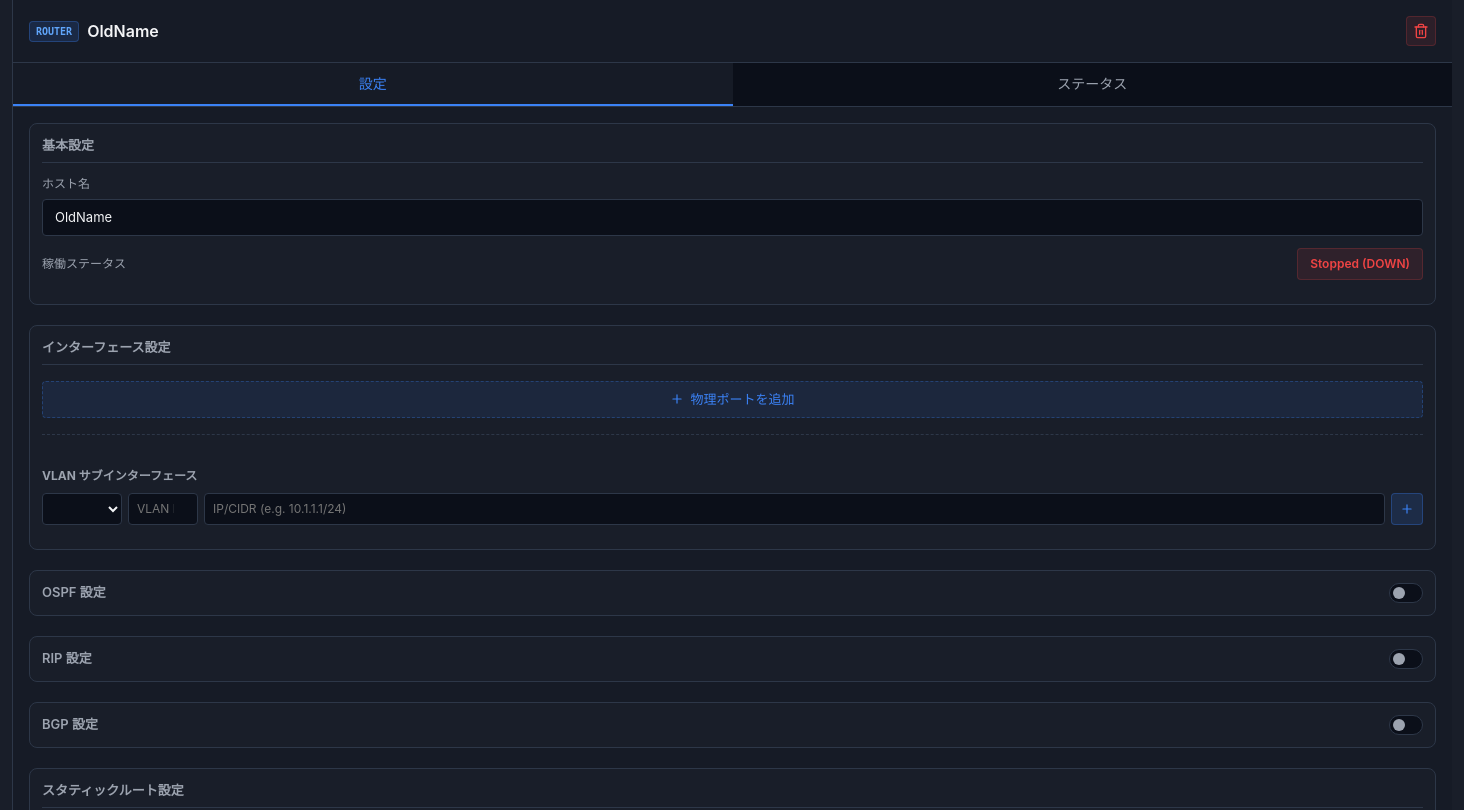
Test: PropertyPanel Component › ルーター名を入力した際に状態が正しく更新されること
The image size is (1464, 810).
Replace the text in the field labelled "ホスト名" with "NewRouter" at (732, 217), box [42, 198, 1423, 236]
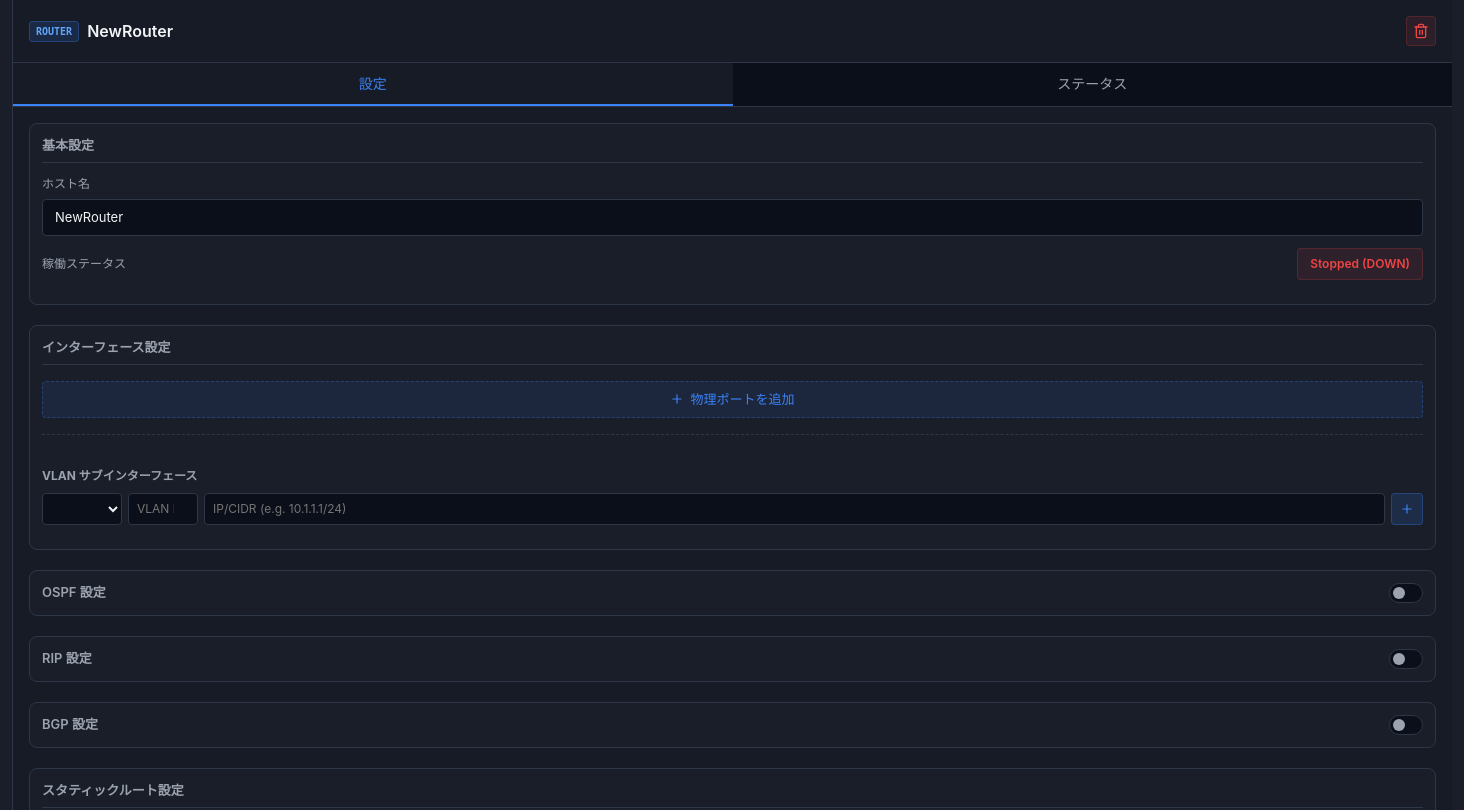
Expected: the heading "NewRouter" is shown, [87, 19, 173, 43]
